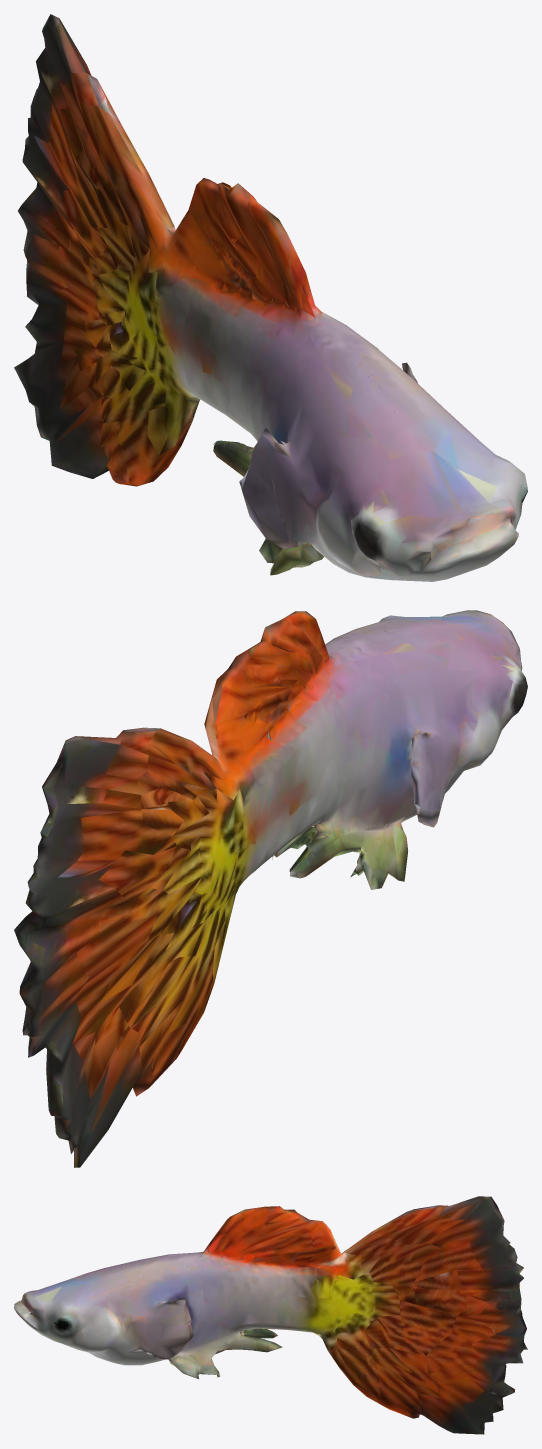
Rendered from strain-red_mosaic.lo.glb.
3 renders of one model, top to bottom at view 1: azimuth 30°, elevation 25°; view 2: azimuth 150°, elevation 25°; view 3: azimuth 270°, elevation 25°, orthographic. The views are drawn at different scales.
Visible parts, largest first — view 1: Mesh_0.001; view 2: Mesh_0.001; view 3: Mesh_0.001.
Boxes of the visible parts, x1,y1,x2,y2 form: Mesh_0.001: (14, 14, 527, 581); Mesh_0.001: (14, 610, 527, 1167); Mesh_0.001: (14, 1196, 527, 1434).
Bounding box in the file's own units: 0.00799 × 0.018 × 0.0352.
Materials: 2 (2 with a texture image).
